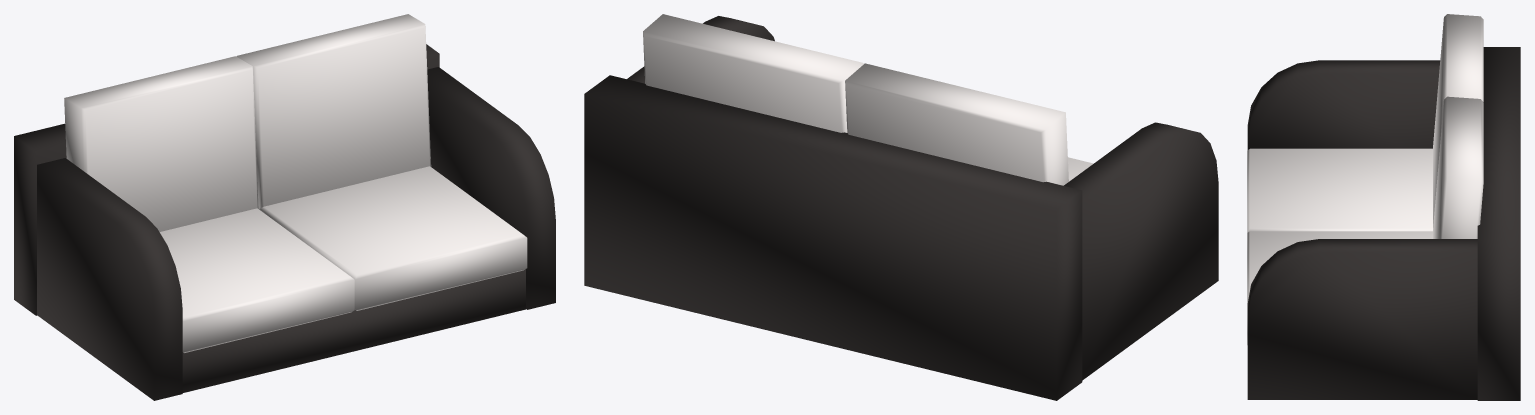
File: Sofa_03.fbx
3 views of the same model, side by side, from view 1: azimuth 30°, elevation 25°; view 2: azimuth 150°, elevation 25°; view 3: azimuth 270°, elevation 25° (orthographic). The views are drawn at different scales.
Visible parts, largest first — view 1: Sofa_03; view 2: Sofa_03; view 3: Sofa_03.
Boxes of the visible parts, x1,y1,x2,y2 form: Sofa_03: (14, 14, 555, 400); Sofa_03: (584, 14, 1218, 400); Sofa_03: (1247, 14, 1520, 400).
Bounding box in the file's own units: 202 × 101 × 121.
